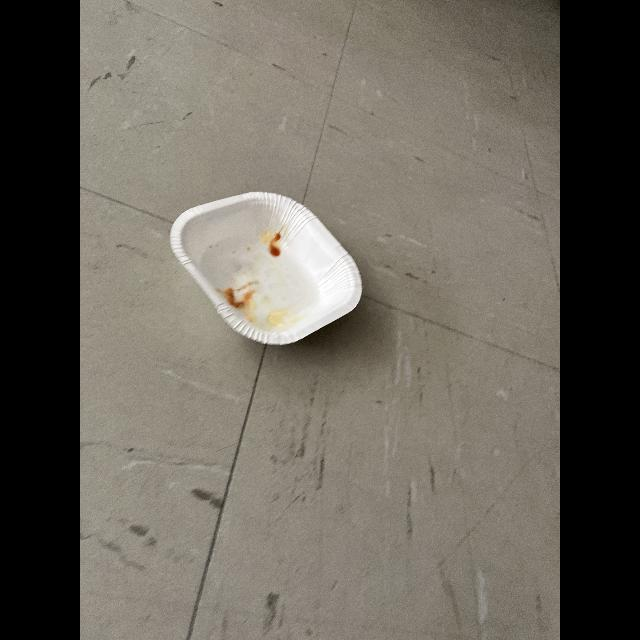cardboard_bowl: (160, 176, 370, 368)
